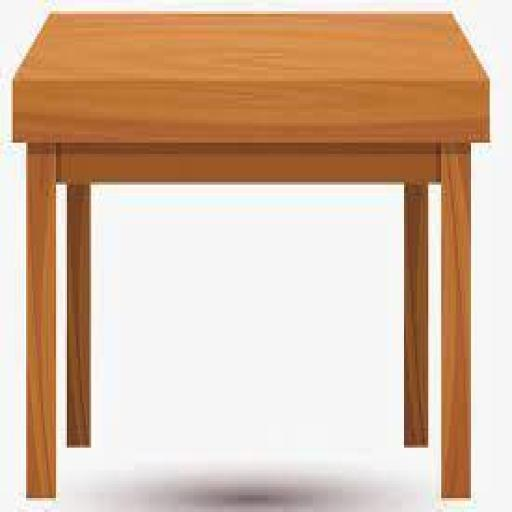table: (8, 6, 496, 509)
